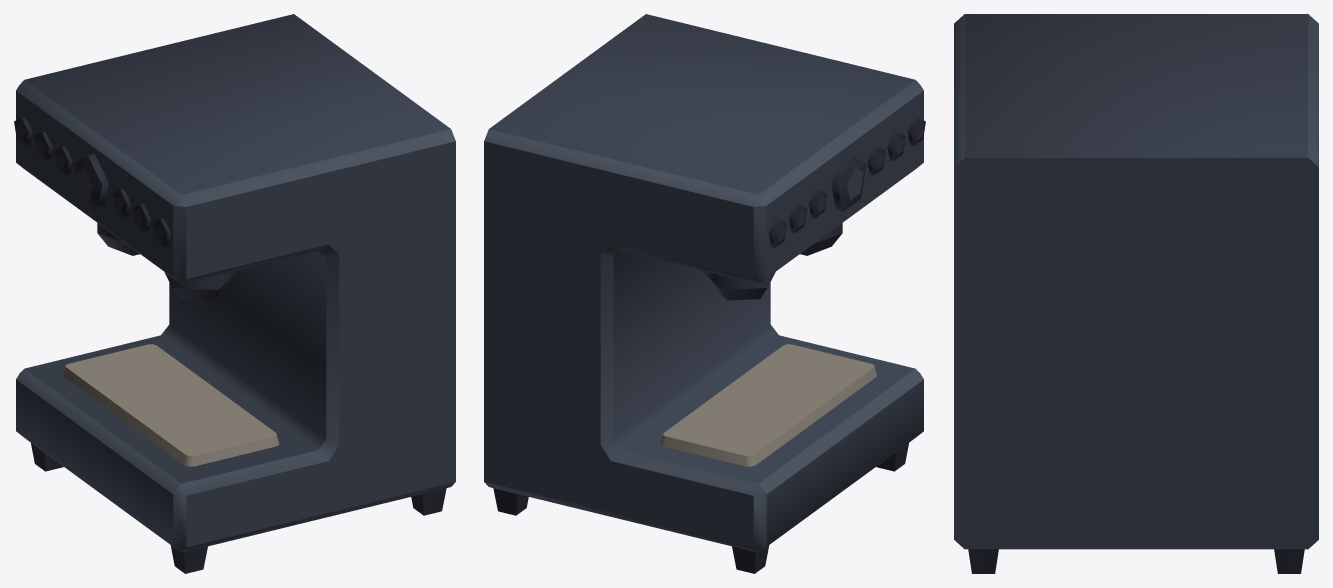
Rendered from CoffeeMachine_1_G_001.fbx.
3 views of the same model, side by side, from view 1: azimuth 30°, elevation 25°; view 2: azimuth 150°, elevation 25°; view 3: azimuth 270°, elevation 25° (orthographic). The views are drawn at different scales.
Visible parts, largest first — view 1: CoffeeMachine_1_G.001; view 2: CoffeeMachine_1_G.001; view 3: CoffeeMachine_1_G.001.
Boxes of the visible parts, x1,y1,x2,y2 form: CoffeeMachine_1_G.001: (14, 14, 455, 573); CoffeeMachine_1_G.001: (484, 14, 925, 573); CoffeeMachine_1_G.001: (954, 14, 1318, 573).
Size of the model in its own units: 48.51 by 61.74 by 48.68.
